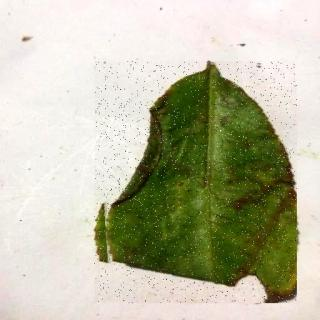Red Leaf Spot: (95, 62, 298, 304)
